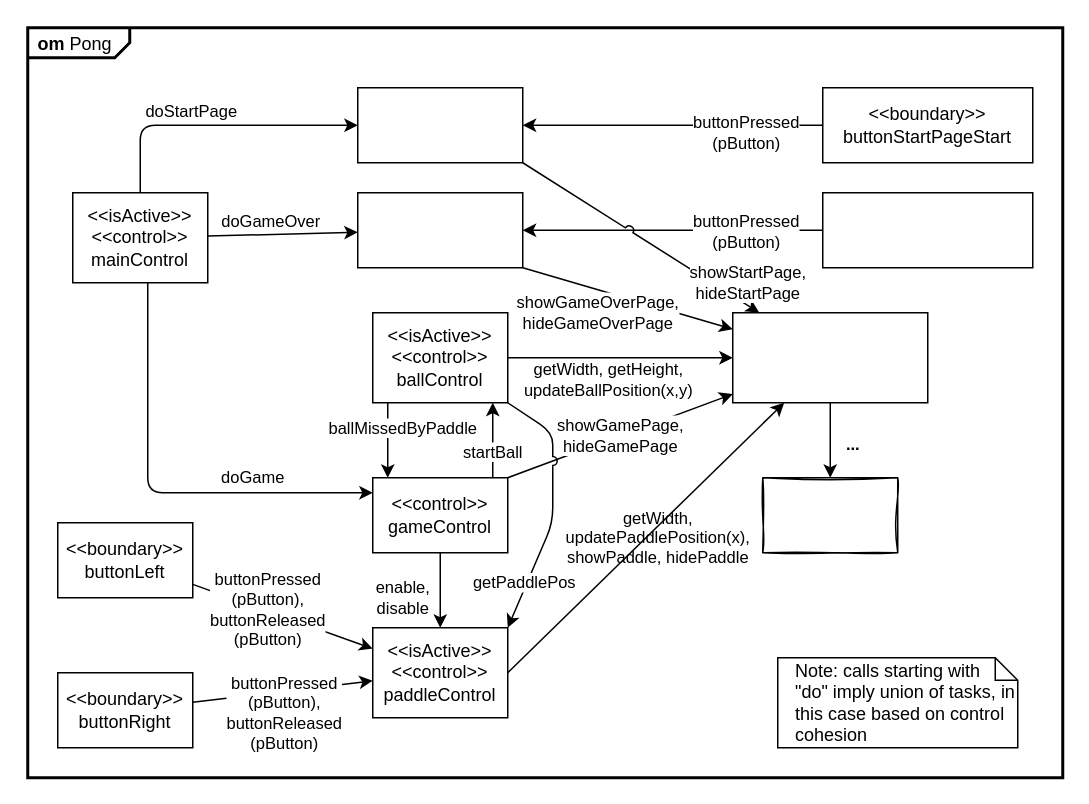
This 1089x804 diagram has some shape labels left out. Each missing label, with the box of its shape:
<<boundary>> buttonGameOverStart: (821, 191, 1033, 268)
<<boundary>> DisplayAdapter: (761, 476, 898, 553)
<<control>> gameOverControl: (356, 191, 523, 268)
<<control>> startPageControl: (356, 86, 523, 163)
<<isActive>> <<control>> displayControl: (731, 311, 928, 403)
